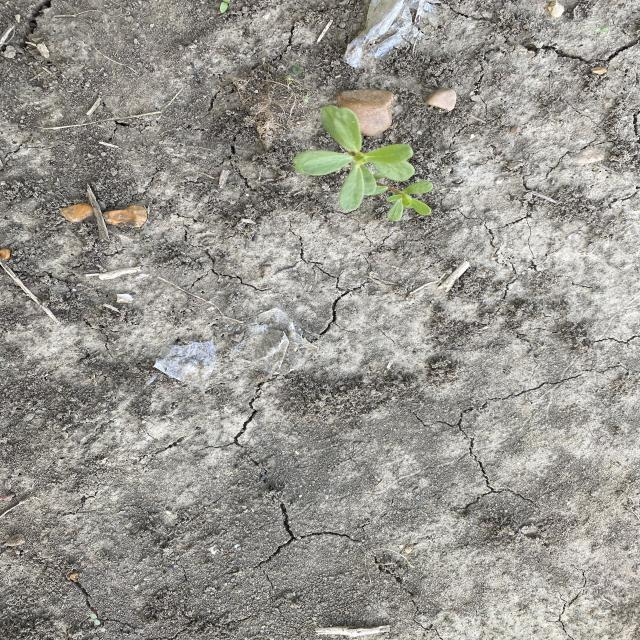Purslane: (288, 102, 436, 223)
